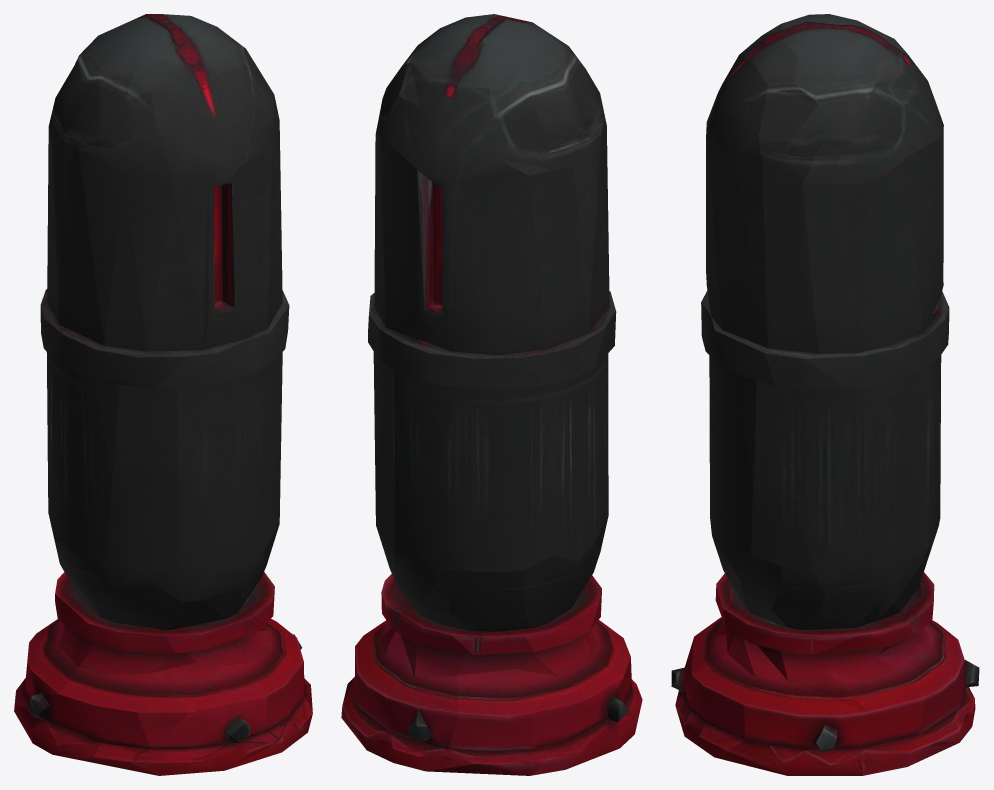
Rendered from BS_Enemy_Basic_CapsulePawn_final.glb.
The picture shows the model from 3 angles, left to right: view 1: azimuth 30°, elevation 25°; view 2: azimuth 150°, elevation 25°; view 3: azimuth 270°, elevation 25°; orthographic projection.
Size of the model in its own units: 0.7639 by 1.9 by 0.7671.
Materials: 1 (1 with a texture image).
